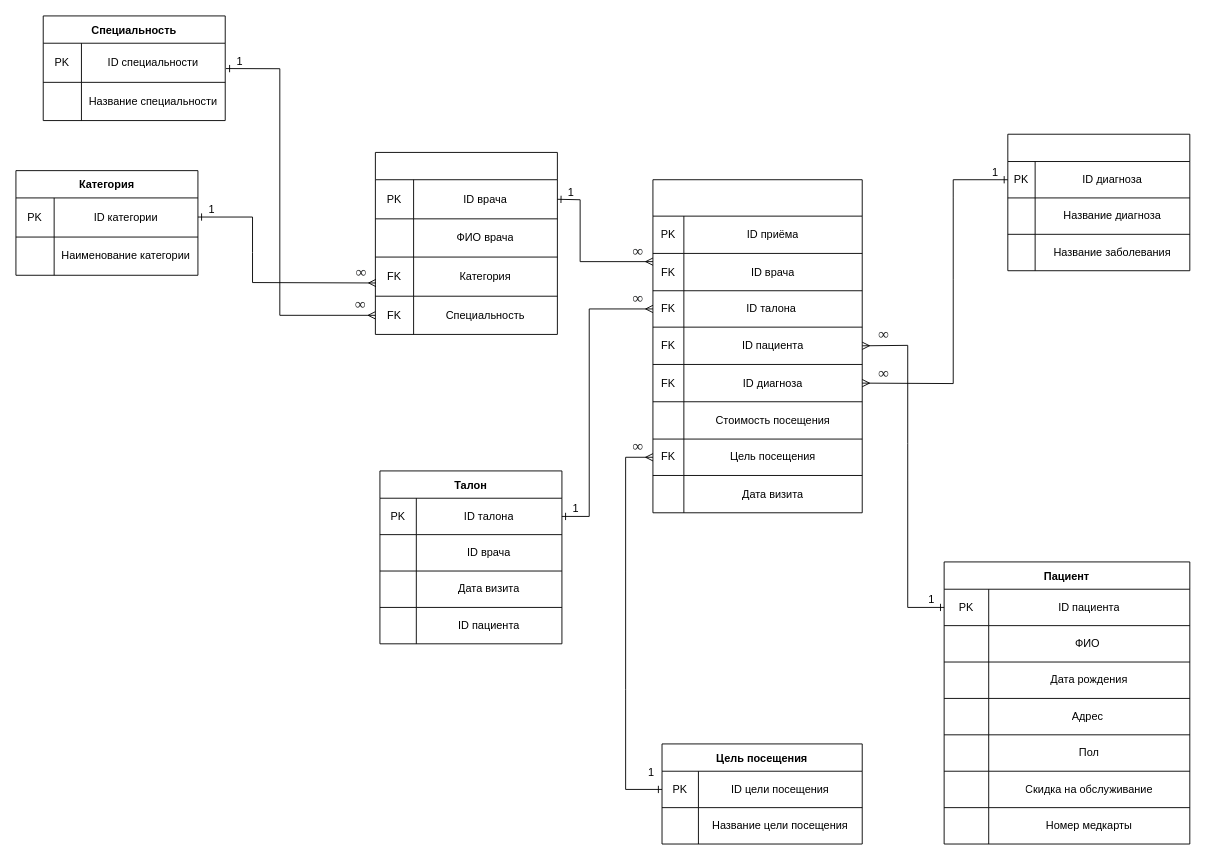
Image size: 1206x860. Some labels were removed from this diagram. The box of each missing label's shape, as (x1, y1, x2, y2) in pixels:
Диагнозы: (1007, 133, 1190, 271)
Ежедневный приём пациентов: (652, 179, 862, 513)
Информация о врачах: (374, 152, 557, 334)
